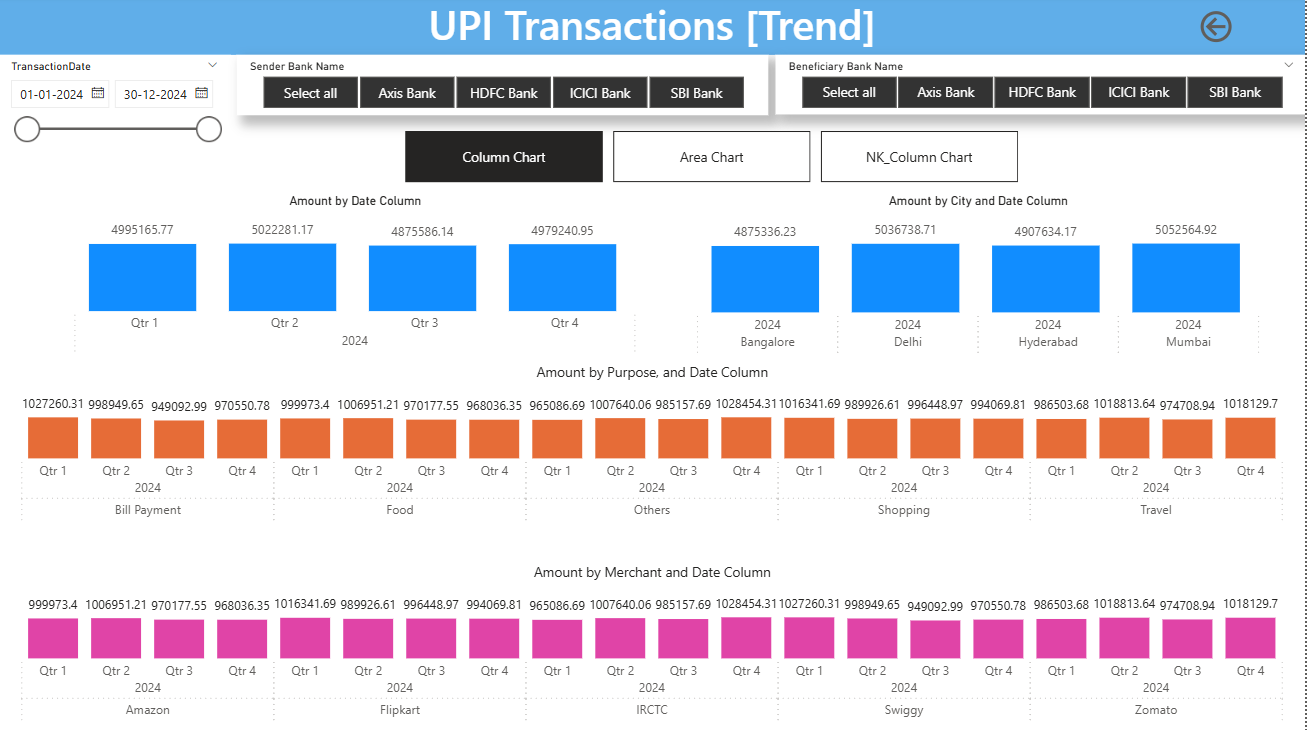

The page's visual inventory and layout, read from the dashboard file:
{"tool":"powerbi","page":{"name":"Trend","canvas":[1280,720],"ordinal":3},"visuals":[{"type":"textbox","title":"UPI Transactions [Trend]","box":[0,0,1280.3,57.5],"z":0},{"type":"slicer","fields":{"Values":["Sheet1.TransactionDate"]},"box":[0,57.5,227.4,149.2],"z":1000},{"type":"slicer","fields":{"Values":["Sheet1.BankNameSent"]},"box":[234,58,520,59],"z":2000},{"type":"slicer","fields":{"Values":["Sheet1.BankNameReceived"]},"box":[760.6,57.5,519.7,58.7],"z":3000},{"type":"stackedAreaChart","title":"Amount by Date Line","fields":{"Y":["Sum(Sheet1.Amount)"],"Category":["Sheet1.TransactionDate.Variation.Date Hierarchy.Year","Sheet1.TransactionDate.Variation.Date Hierarchy.Quarter","Sheet1.TransactionDate.Variation.Date Hierarchy.Month"]},"box":[0,191,640,167],"z":4000},{"type":"stackedAreaChart","title":"Amount by City and Date Line","fields":{"Y":["Sum(Sheet1.Amount)"],"Category":["Sheet1.City","Sheet1.TransactionDate.Variation.Date Hierarchy.Year","Sheet1.TransactionDate.Variation.Date Hierarchy.Quarter","Sheet1.TransactionDate.Variation.Date Hierarchy.Month"]},"box":[639.5,192,640.8,167.5],"z":5000},{"type":"areaChart","title":"Amount by Purpose, and Date Line","fields":{"Category":["Sheet1.Purpose","Sheet1.TransactionDate.Variation.Date Hierarchy.Year","Sheet1.TransactionDate.Variation.Date Hierarchy.Quarter","Sheet1.TransactionDate.Variation.Date Hierarchy.Month"],"Y":["Sum(Sheet1.Amount)"]},"box":[0,359.5,1280.3,166.3],"z":6000},{"type":"areaChart","title":"Amount by Merchant and Date Line","fields":{"Category":["Sheet1.MerchantName","Sheet1.TransactionDate.Variation.Date Hierarchy.Year","Sheet1.TransactionDate.Variation.Date Hierarchy.Quarter","Sheet1.TransactionDate.Variation.Date Hierarchy.Month"],"Y":["Sum(Sheet1.Amount)"]},"box":[0,553.9,1280.3,166.3],"z":7000},{"type":"actionButton","box":[1171.5,9.8,100.3,40.4],"z":8000},{"type":"bookmarkNavigator","title":"Bookmark navigator trend","box":[398.6,132.1,600.4,50.1],"z":13000}]}

Visuals, with their boxes in screenshot pixels (x1, y1, x2, y2), scaled from the page's 1280x720 canvas onto the 1307x730 screenshot:
"UPI Transactions [Trend]" textbox: bbox=[0, 0, 1306, 58]
slicer - Sheet1.TransactionDate: bbox=[0, 58, 232, 210]
slicer - Sheet1.BankNameSent: bbox=[239, 59, 770, 119]
slicer - Sheet1.BankNameReceived: bbox=[777, 58, 1306, 118]
"Amount by Date Line" stackedAreaChart: bbox=[0, 194, 654, 363]
"Amount by City and Date Line" stackedAreaChart: bbox=[653, 195, 1306, 364]
"Amount by Purpose, and Date Line" areaChart: bbox=[0, 364, 1306, 533]
"Amount by Merchant and Date Line" areaChart: bbox=[0, 562, 1306, 729]
actionButton: bbox=[1196, 10, 1299, 51]
"Bookmark navigator trend" bookmarkNavigator: bbox=[407, 134, 1020, 185]
